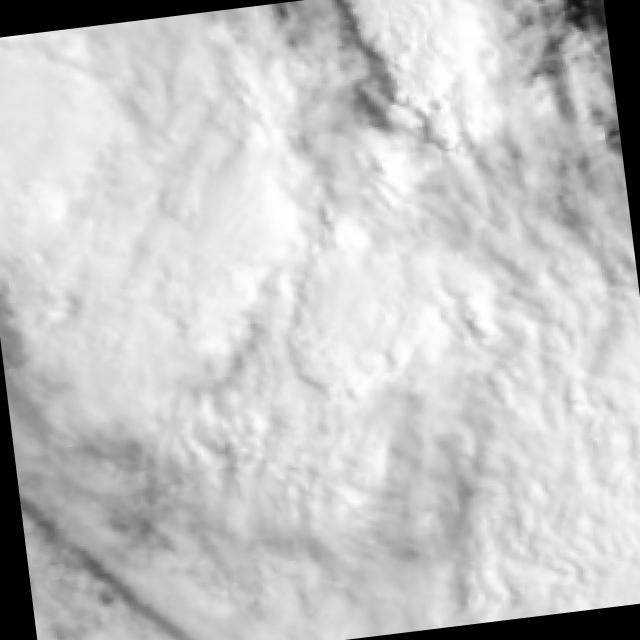CB: (478, 375, 640, 619), (0, 39, 153, 280), (270, 224, 457, 408), (165, 160, 298, 325)
